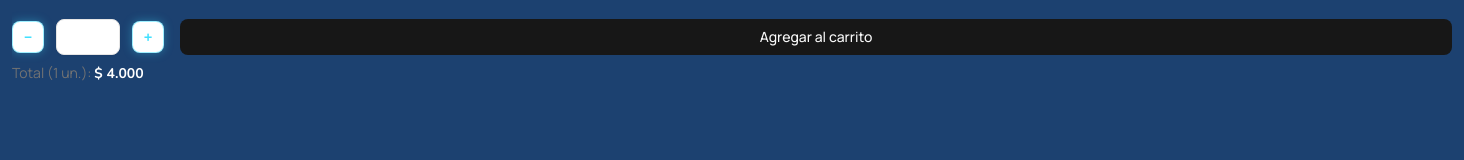
it: AddToCart › recalculates the total price as the quantity changes using pack pricing
This screenshot has width=1464, height=160.
Expected: the text "Total (1 un.): $ 4.000" is shown, top-left (12, 63), bottom-right (144, 83)
Replace the text in the number field named "Cantidad" with "10" at coordinates (88, 37), box top-left (56, 19), bottom-right (120, 55)
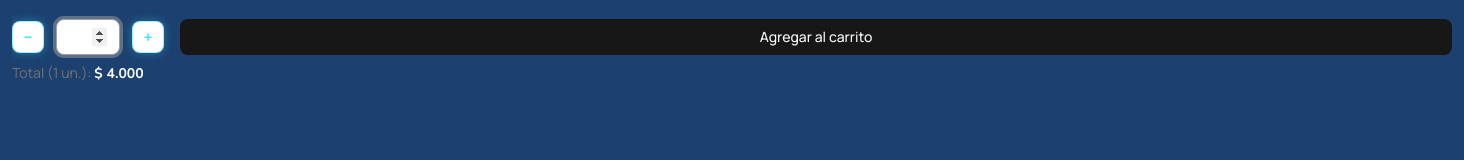
Press Tab
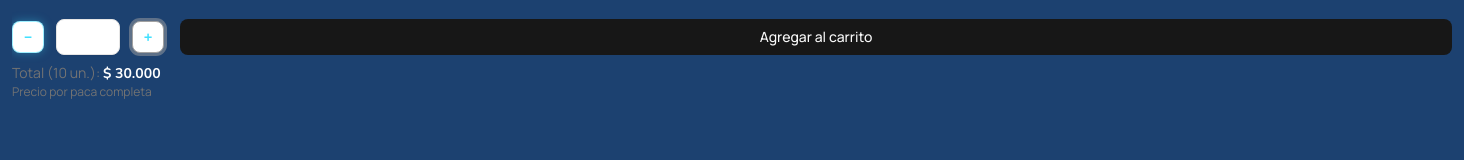
Now the text "Total (10 un.): $ 30.000" is shown, box top-left (12, 63), bottom-right (160, 83)
